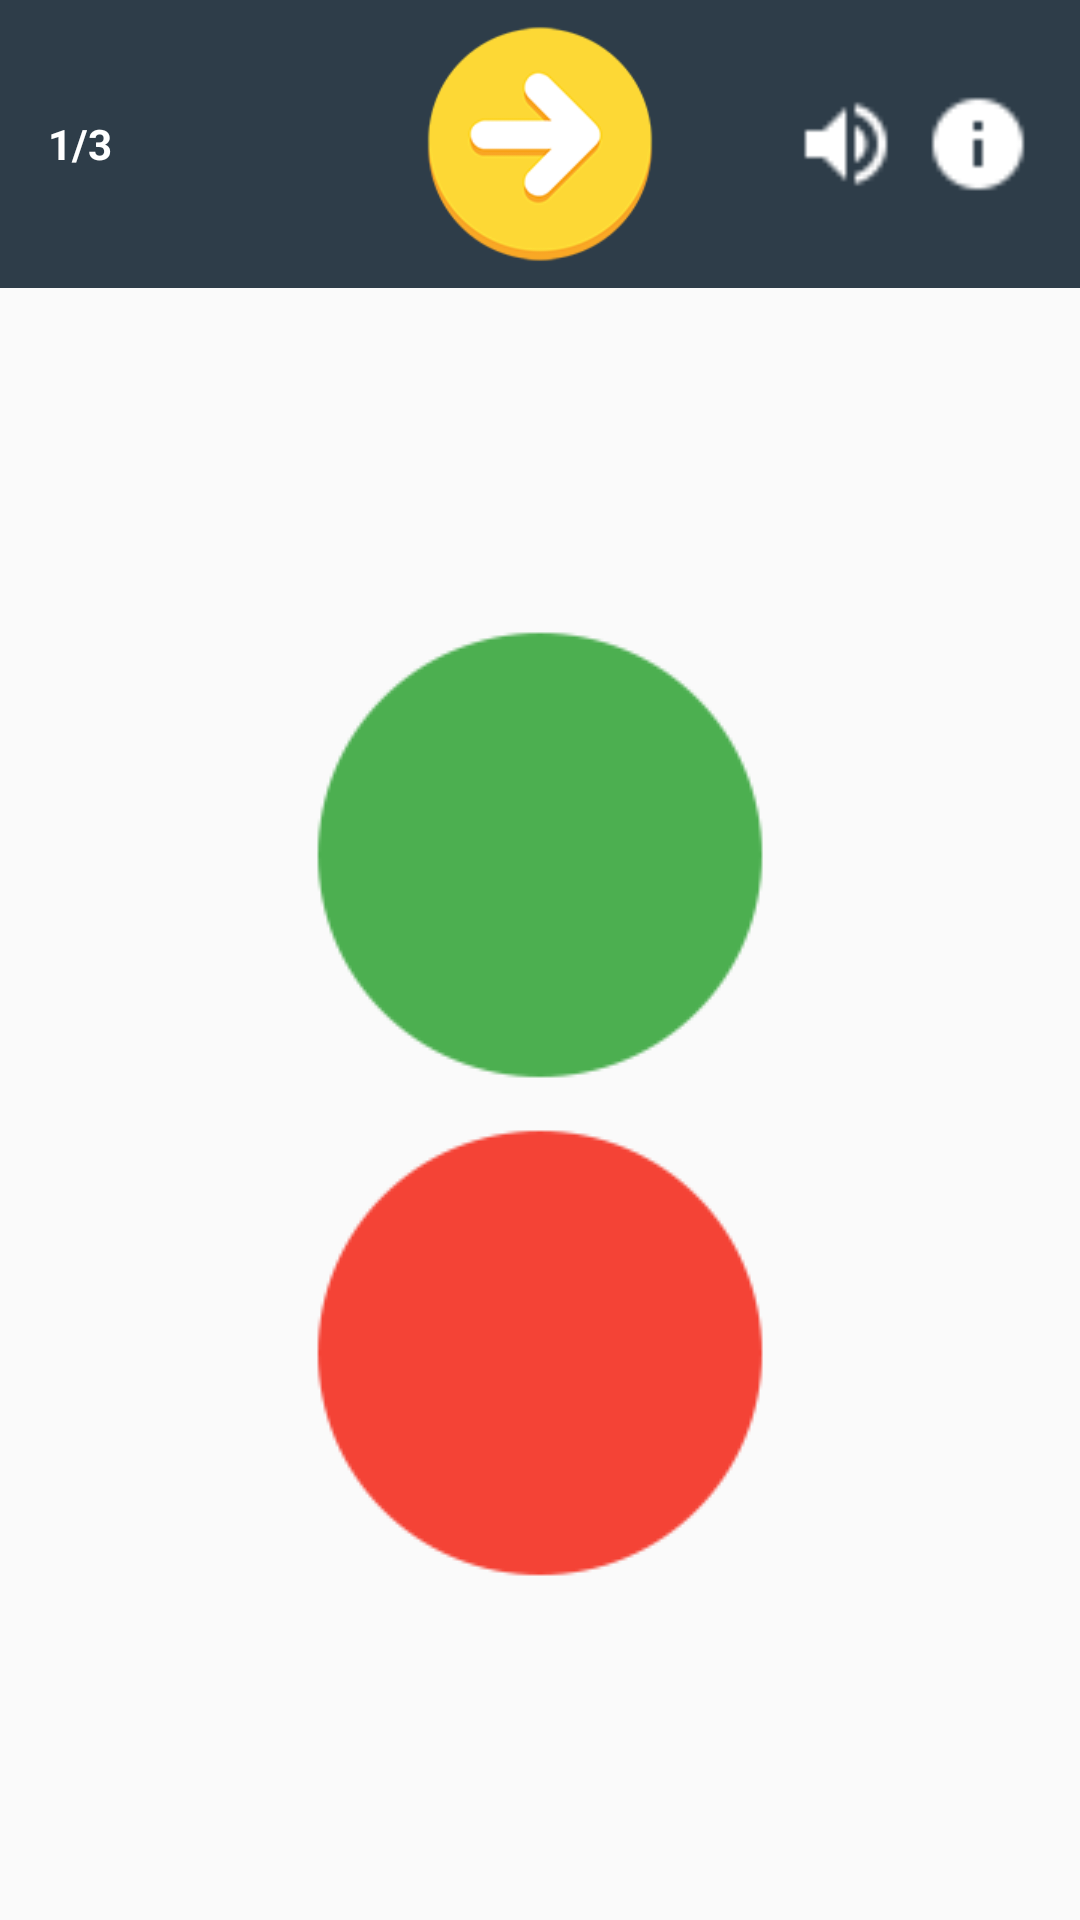

Point at icon controls on the screen. Image size 1080w x 1920h, points as (x=x, y=y).
info: (x=978, y=144)
next: (x=540, y=144)
volume up: (x=846, y=144)
